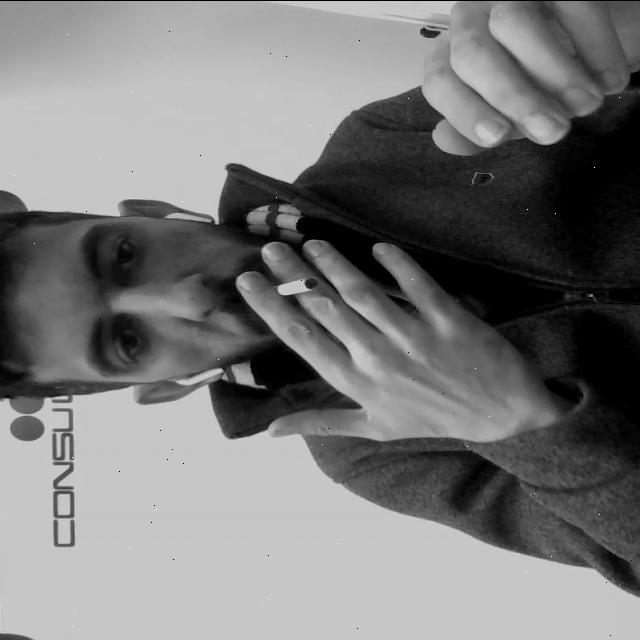face_no_mask: (0, 199, 343, 409)
